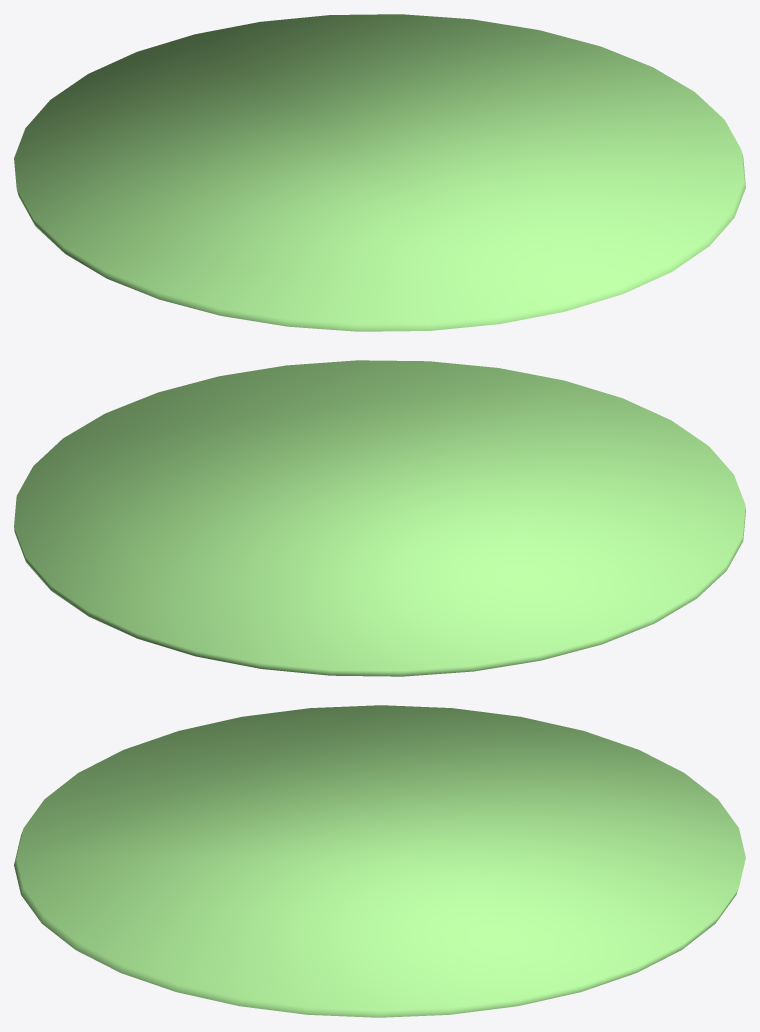
3 renders of one model, top to bottom at view 1: azimuth 30°, elevation 25°; view 2: azimuth 150°, elevation 25°; view 3: azimuth 270°, elevation 25°, orthographic.
Parts seen in each view (by area): view 1: Circle; view 2: Circle; view 3: Circle.
Part boxes in pixels (x1,y1,x2,y2): Circle: (14, 14, 745, 331); Circle: (14, 360, 745, 676); Circle: (14, 705, 745, 1017).
Size of the model in its own units: 4.66 by 0.0493 by 4.72.
